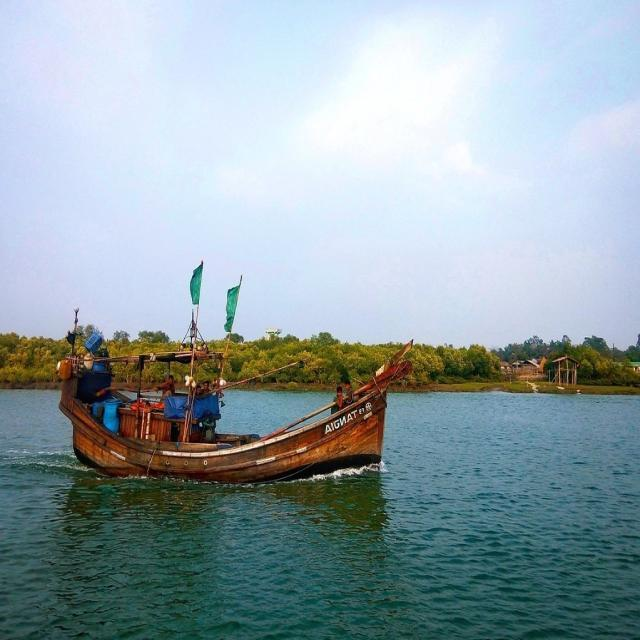boat: (50, 342, 404, 498)
